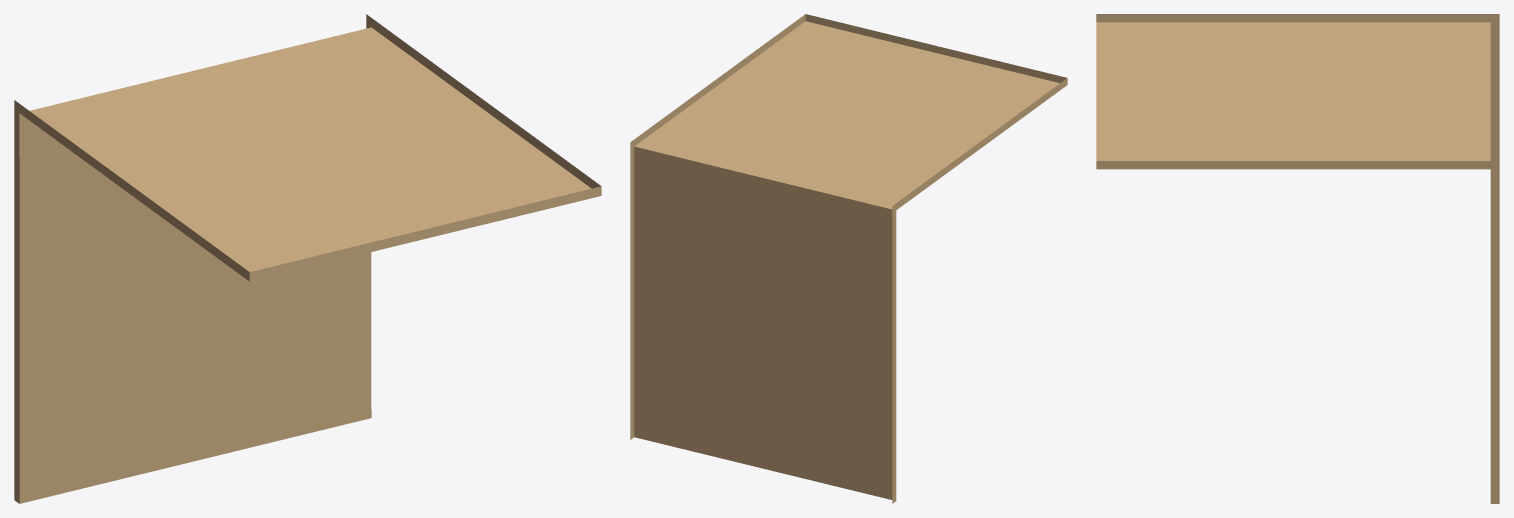
The model's file is WoodenPanel.fbx.
3 renders of one model, left to right at view 1: azimuth 30°, elevation 25°; view 2: azimuth 150°, elevation 25°; view 3: azimuth 270°, elevation 25°, orthographic. The views are drawn at different scales.
Parts seen in each view (by area): view 1: WoodenPanel; view 2: WoodenPanel; view 3: WoodenPanel.
Boxes of the visible parts, x1,y1,x2,y2 form: WoodenPanel: (14,14,601,503); WoodenPanel: (630,14,1067,503); WoodenPanel: (1096,14,1499,503).
Bounding box in the file's own units: 307 × 334 × 356.
